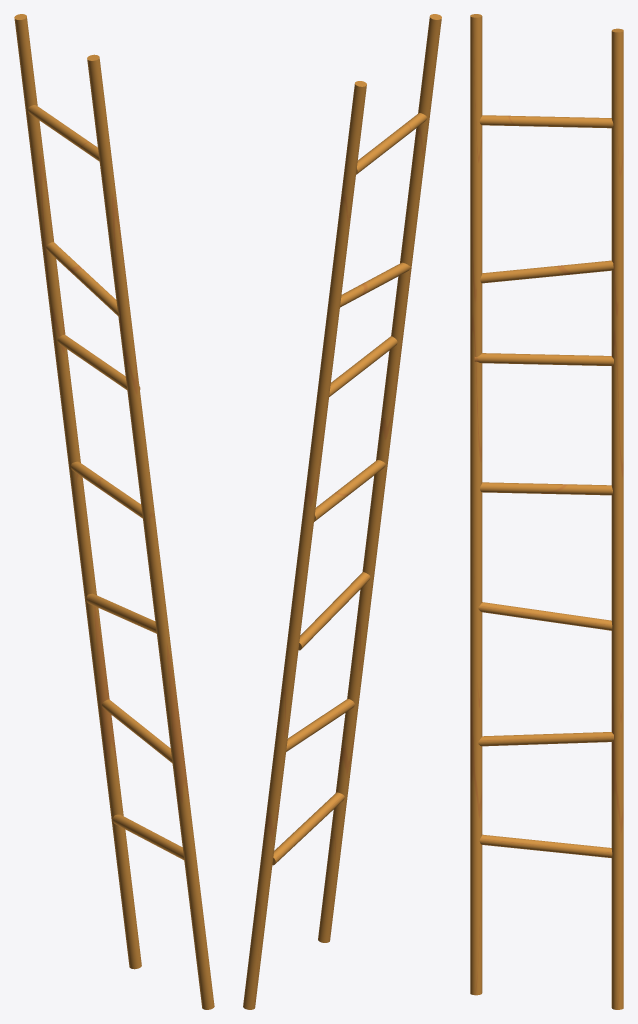
File: Escalera.obj
3 renders of one model, left to right at view 1: azimuth 30°, elevation 25°; view 2: azimuth 150°, elevation 25°; view 3: azimuth 270°, elevation 25°, orthographic. The views are drawn at different scales.
Visible parts, largest first — view 1: pCylinder174; view 2: pCylinder174; view 3: pCylinder174.
Part boxes in pixels (box(x1,y1,x2,y2)): pCylinder174: box(14, 14, 214, 1009); pCylinder174: box(243, 14, 441, 1009); pCylinder174: box(470, 14, 623, 1009).
Bounding box in the file's own units: 0.6294 × 4.66 × 0.6913.
Materials: 1 (1 with a texture image).
